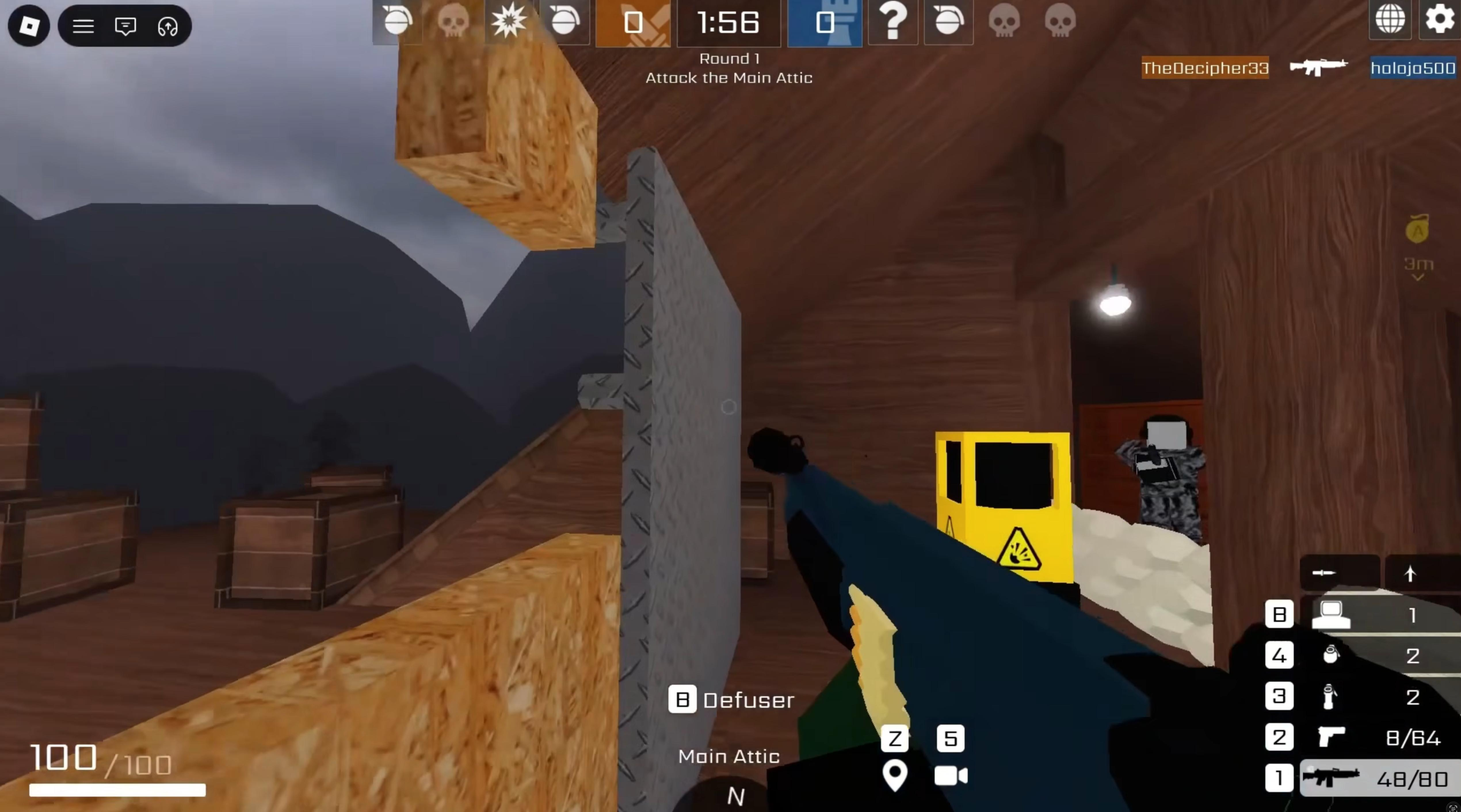enemy: (1107, 398, 1217, 568)
